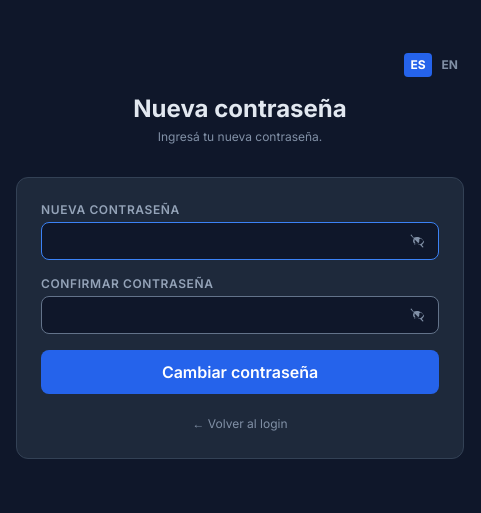
Test: ResetPassword -- password_igual_a_la_actual (F5) › se traduce y el formulario sigue abierto
The width and height of the screenshot is (481, 513).
In the 1st password field: [240, 241] box [41, 222, 439, 260], type "clave-del-admin-1"
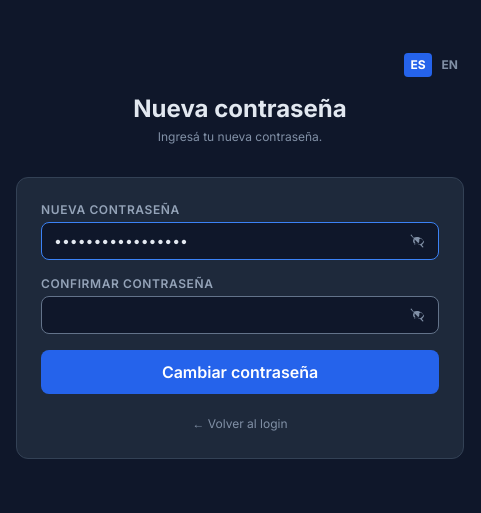
In the password field below "Confirmar contraseña": [240, 315] box [41, 296, 439, 334], type "clave-del-admin-1"
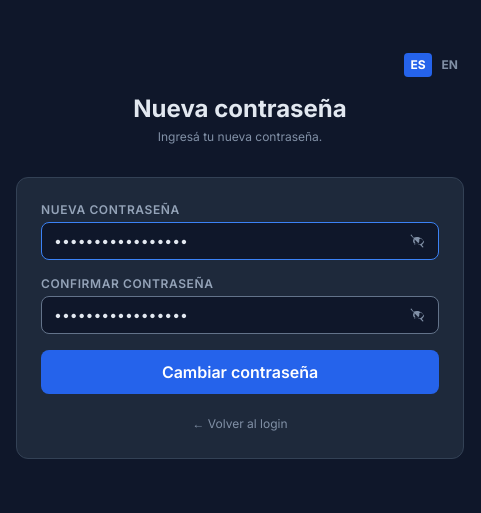
Click the button "Cambiar contraseña": [240, 372] box [41, 350, 439, 394]
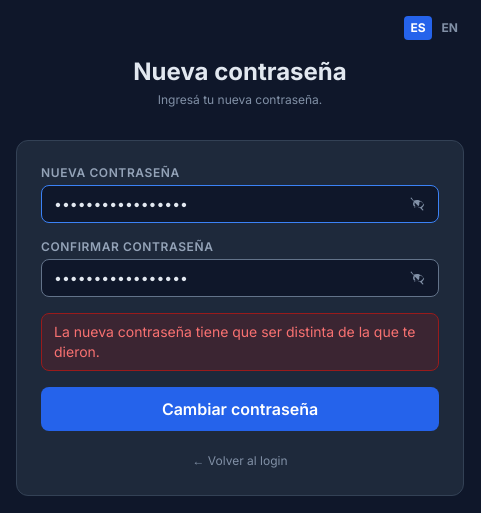
Check: the number of password fields is 2, box [41, 185, 439, 223]; [41, 259, 439, 297]
Check: the text "La nueva contraseña tiene que ser distinta de la que te dieron." is shown, box [41, 313, 439, 371]
